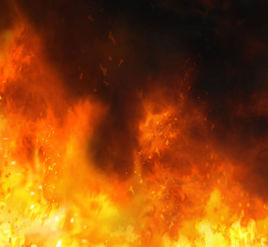fire: (3, 118, 111, 247), (113, 211, 260, 247)
